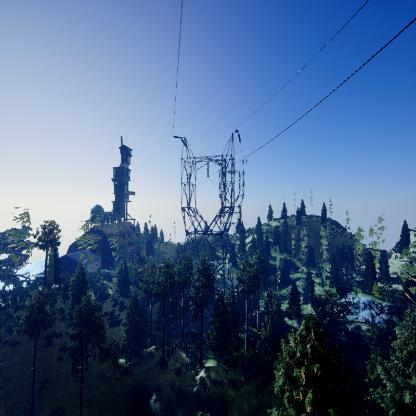tower: (172, 125, 244, 308)
